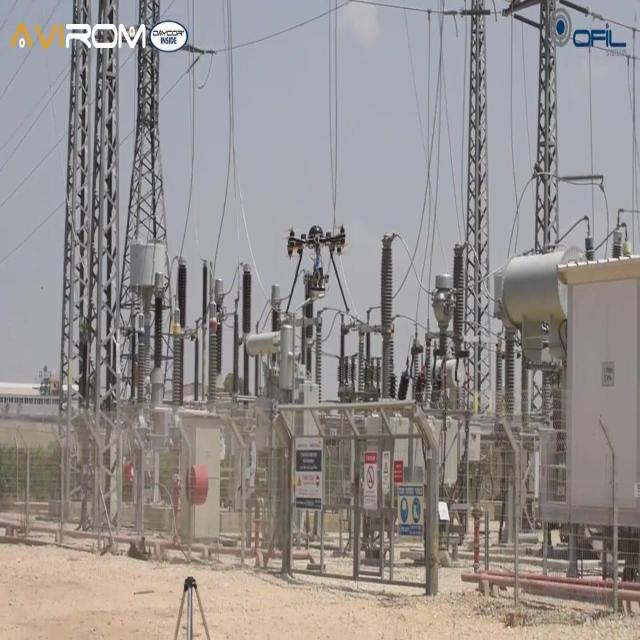UAV: (284, 224, 346, 260)
